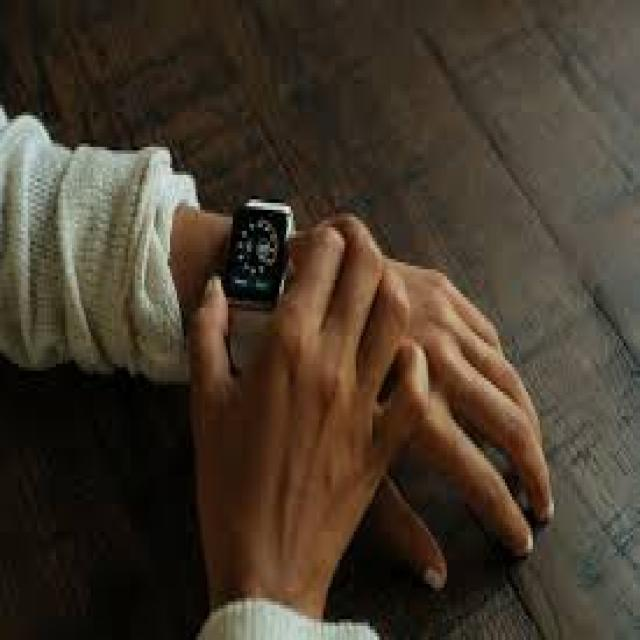objects: (214, 187, 302, 352)
